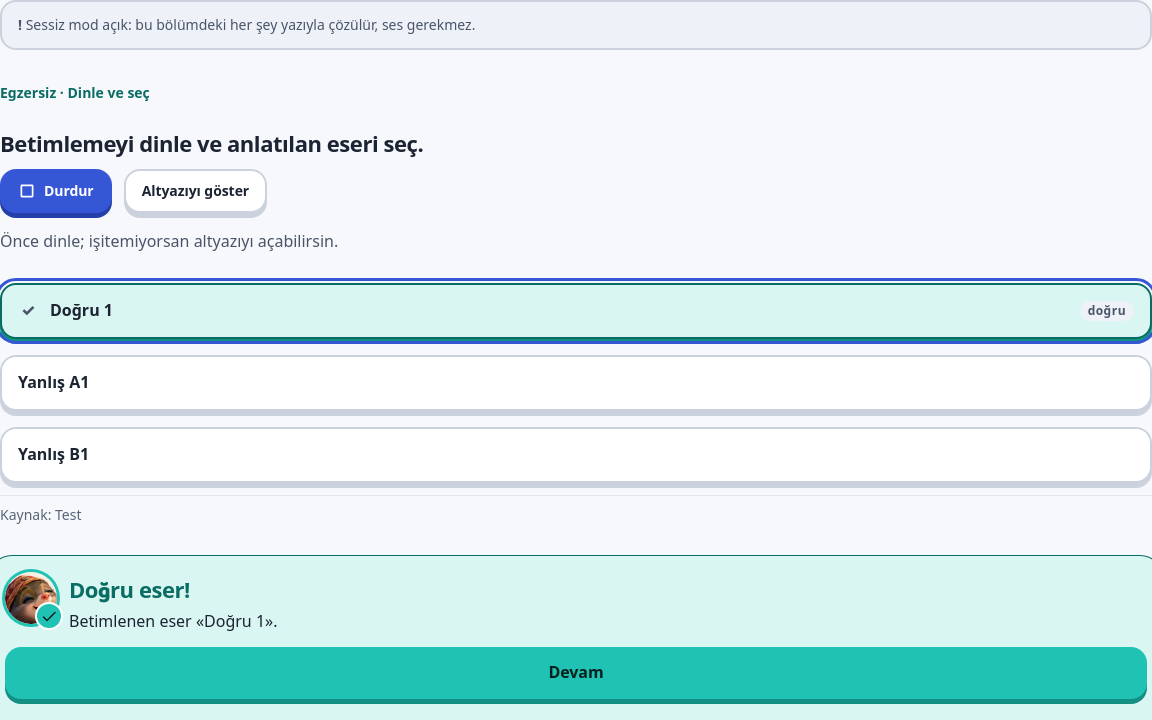
it: kombo › iki egzersiz ipucusuz çözülünce bant çıkar; ipucu alınca kaybolur
Earlier steps of the test are not shown.
Later steps or results of the test are not shown.
Step 1. Click the button "Devam" → (576, 673), box top-left (5, 647), bottom-right (1147, 699)
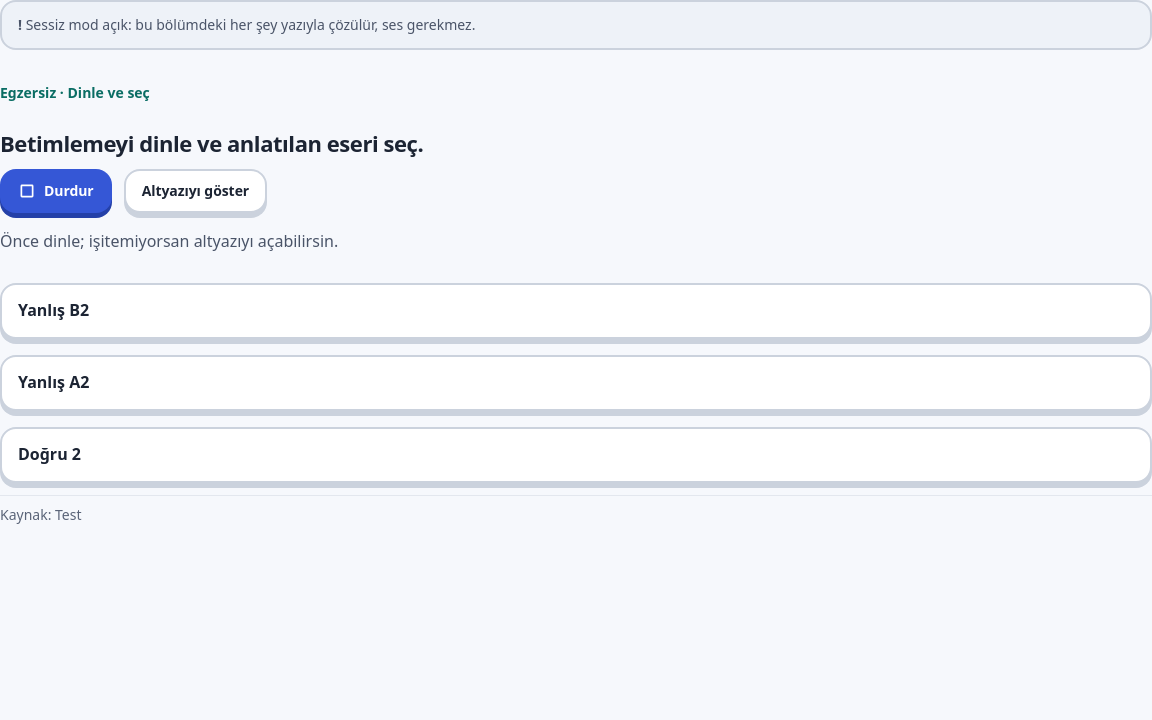
Expected: the text "üst üste ilk denemede" is not shown
Step 2. Click the button "Doğru 2" → (49, 454), box top-left (0, 427), bottom-right (1151, 483)
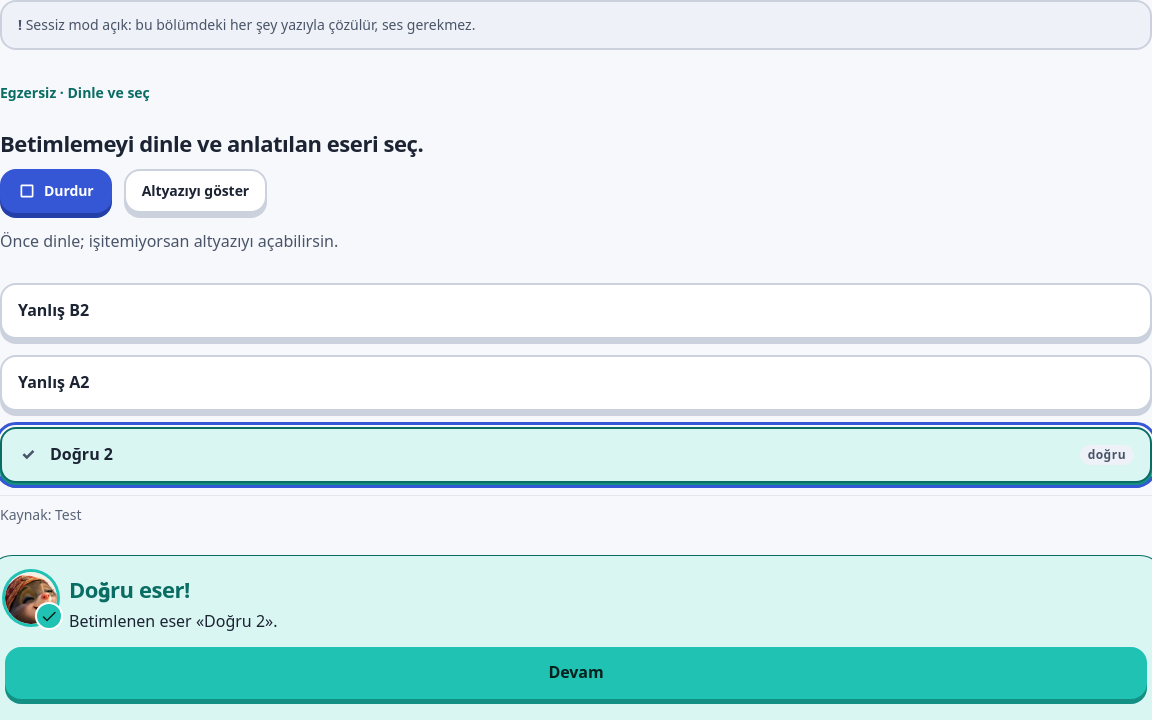
Step 3. Click the button "Devam" → (576, 673), box top-left (5, 647), bottom-right (1147, 699)
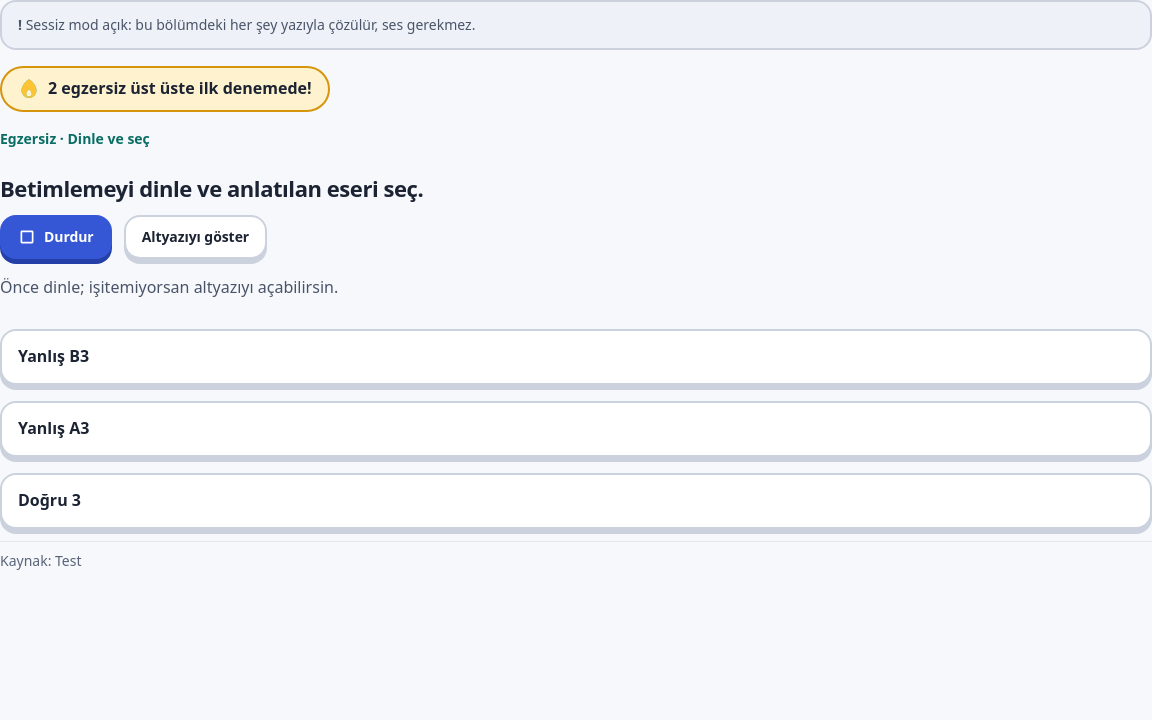
Expected: the text "2 egzersiz üst üste ilk denemede!" is shown, top-left (48, 76), bottom-right (312, 102)
Step 4. Click the button "Yanlış A3" → (54, 428), box top-left (0, 401), bottom-right (1151, 457)
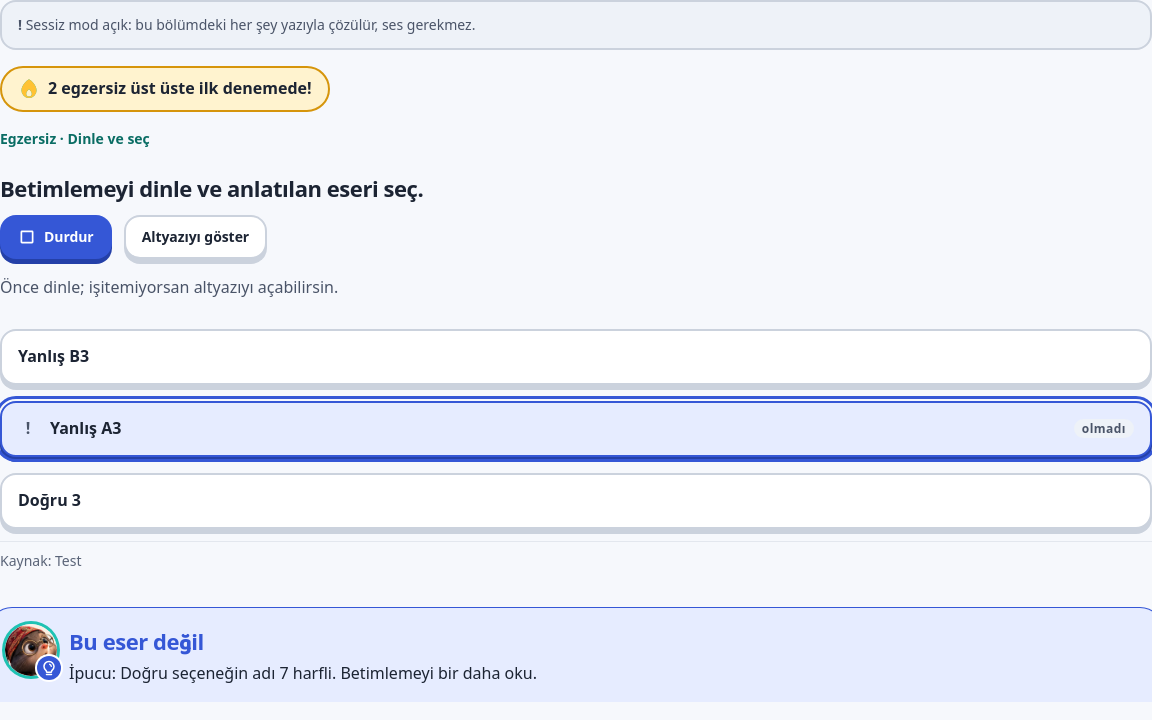
Step 5. Click the button "Doğru 3" → (49, 500), box top-left (0, 473), bottom-right (1151, 529)
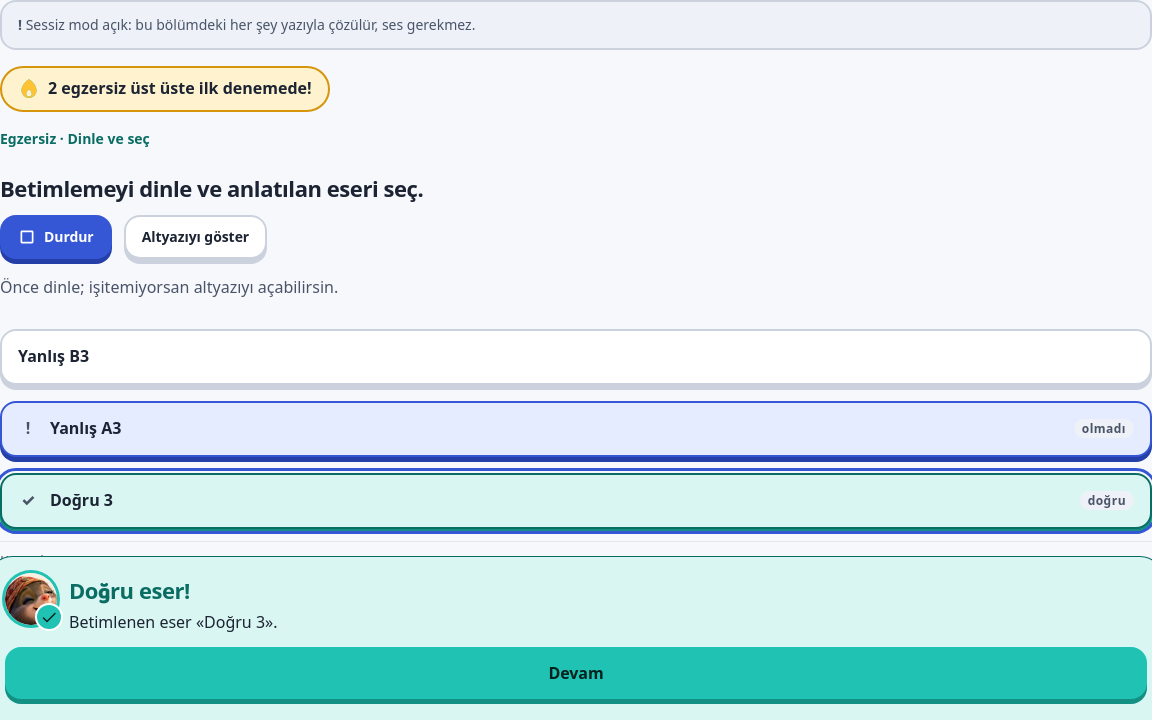
Step 6. Click the button "Devam" → (576, 673), box top-left (5, 647), bottom-right (1147, 699)
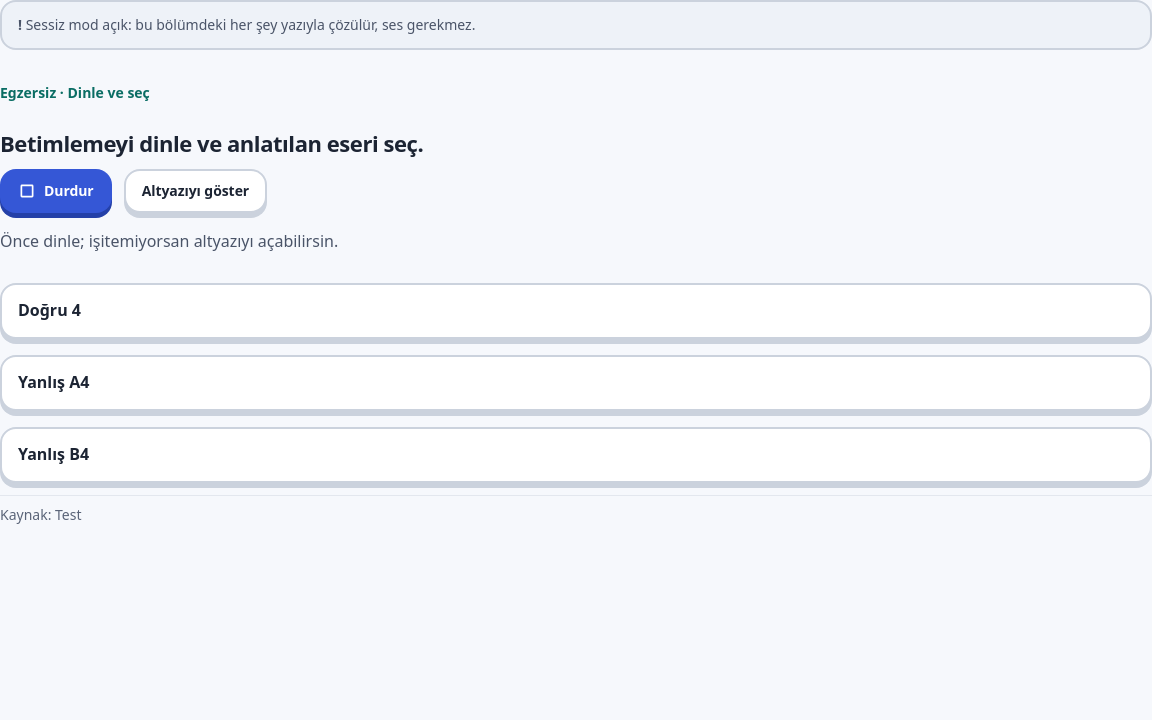
Expected: the text "üst üste ilk denemede" is gone
